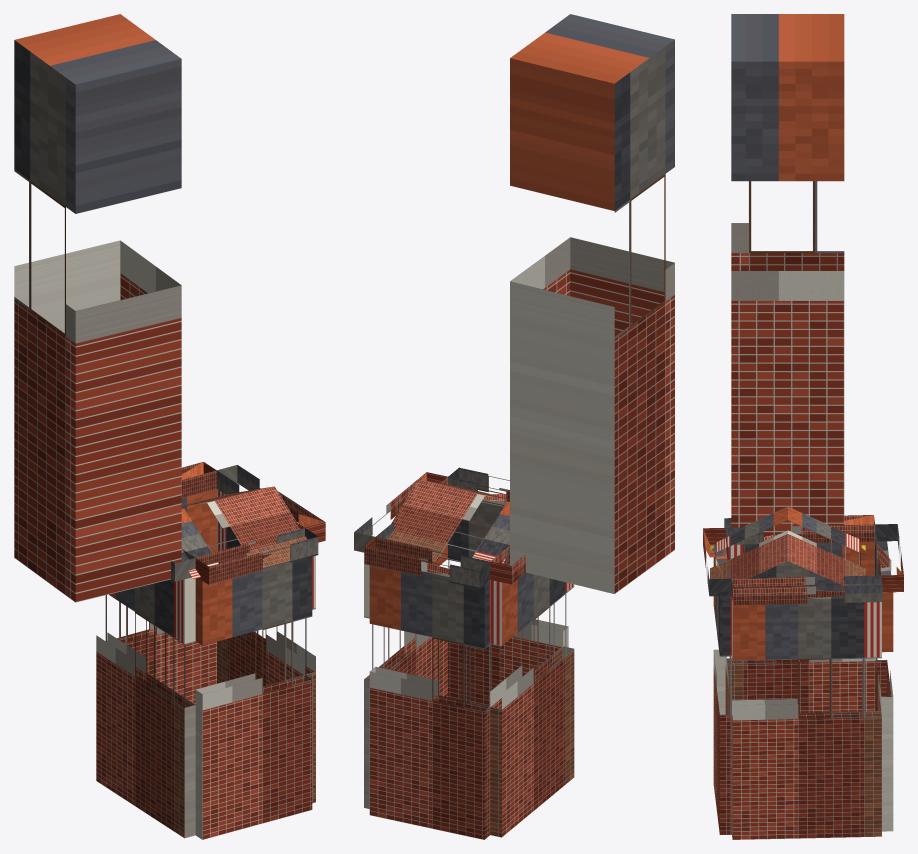
3 views of the same model, side by side, from view 1: azimuth 30°, elevation 25°; view 2: azimuth 150°, elevation 25°; view 3: azimuth 270°, elevation 25° (orthographic). The views are drawn at different scales.
Visible parts, largest first — view 1: 1107107795__chimney_0_xb, 1107107795__wall_3_xb, 1107107795__wall_0_xb, 1107107795__wall_1_xb, 1107107795_roof_-1_xb, 1107107795__wall_2_xb, 1107107795__cornice_3, 1107107795__cornice_2, 1107107795__cornice_1; view 2: 1107107795__chimney_0_xb, 1107107795__wall_1_xb, 1107107795__wall_0_xb, 1107107795__wall_3_xb, 1107107795_roof_1_xb, 1107107795__wall_2_xb, 1107107795__cornice_1, 1107107795__cornice_2, 1107107795__cornice_3, 1107107795__cornice_0; view 3: 1107107795__chimney_0_xb, 1107107795__wall_2_xb, 1107107795__wall_0_xb, 1107107795__wall_3_xb, 1107107795__cornice_2, 1107107795__wall_1_xb, 1107107795_roof_1_xb, 1107107795_roof_-1_xb, 1107107795__cornice_0, 1107107795__cornice_1, 1107107795__cornice_3.
Part boxes in pixels (left/top/right/bottom): 1107107795__chimney_0_xb: left=14, top=14, right=181, bottom=602; 1107107795__wall_3_xb: left=195, top=557, right=312, bottom=839; 1107107795__wall_0_xb: left=96, top=577, right=195, bottom=838; 1107107795__wall_1_xb: left=105, top=489, right=216, bottom=704; 1107107795_roof_-1_xb: left=181, top=486, right=307, bottom=578; 1107107795__wall_2_xb: left=217, top=489, right=315, bottom=803; 1107107795__cornice_3: left=195, top=528, right=318, bottom=584; 1107107795__cornice_2: left=217, top=465, right=325, bottom=542; 1107107795__cornice_1: left=181, top=461, right=216, bottom=498; 1107107795__chimney_0_xb: left=510, top=14, right=674, bottom=593; 1107107795__wall_1_xb: left=369, top=565, right=490, bottom=839; 1107107795__wall_0_xb: left=490, top=564, right=574, bottom=837; 1107107795__wall_3_xb: left=448, top=499, right=568, bottom=705; 1107107795_roof_1_xb: left=388, top=479, right=509, bottom=564; 1107107795__wall_2_xb: left=364, top=544, right=447, bottom=808; 1107107795__cornice_1: left=364, top=537, right=490, bottom=588; 1107107795__cornice_2: left=354, top=472, right=447, bottom=552; 1107107795__cornice_3: left=448, top=467, right=509, bottom=506; 1107107795__cornice_0: left=490, top=545, right=525, bottom=584; 1107107795__chimney_0_xb: left=731, top=14, right=844, bottom=536; 1107107795__wall_2_xb: left=732, top=595, right=881, bottom=839; 1107107795__wall_0_xb: left=726, top=541, right=874, bottom=713; 1107107795__wall_3_xb: left=713, top=548, right=731, bottom=834; 1107107795__cornice_2: left=732, top=575, right=882, bottom=605; 1107107795__wall_1_xb: left=875, top=541, right=893, bottom=831; 1107107795_roof_1_xb: left=788, top=507, right=865, bottom=585; 1107107795_roof_-1_xb: left=710, top=507, right=787, bottom=584; 1107107795__cornice_0: left=724, top=515, right=874, bottom=544; 1107107795__cornice_1: left=875, top=524, right=903, bottom=592; 1107107795__cornice_3: left=703, top=527, right=731, bottom=596.
Size of the model in its own units: 0.355 by 1.05 by 0.2665.
1 material, 1 textured.
